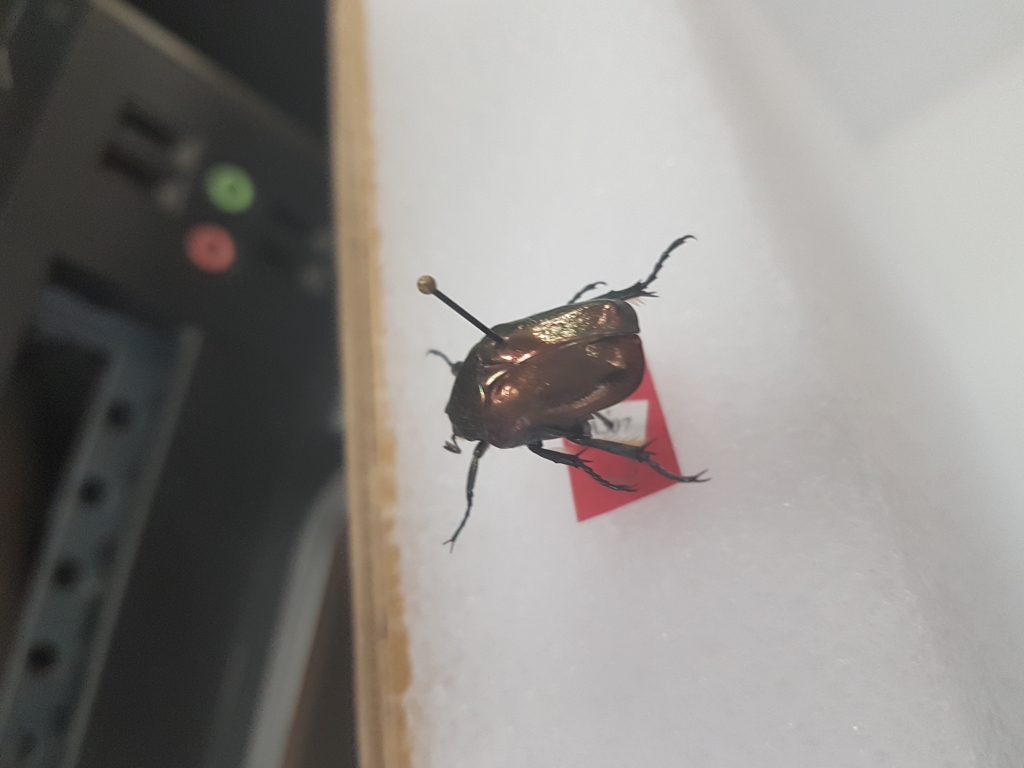Protaetia_besucheti: (408, 219, 728, 555)
